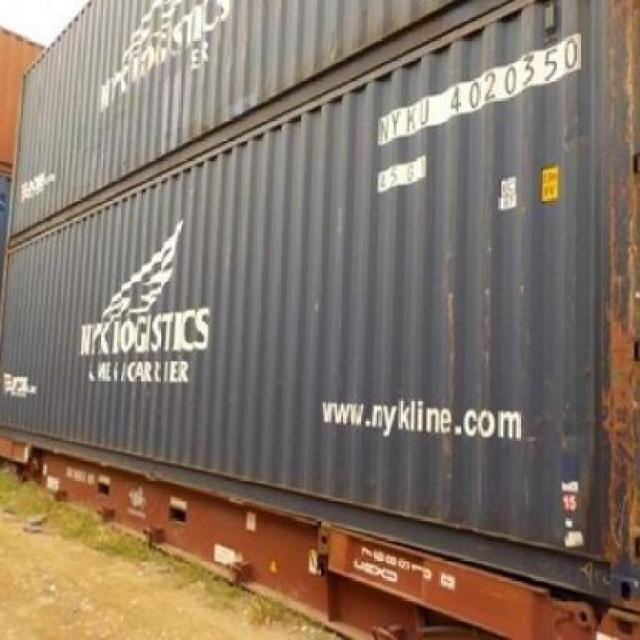Rust: (601, 172, 640, 566), (607, 0, 640, 149)
